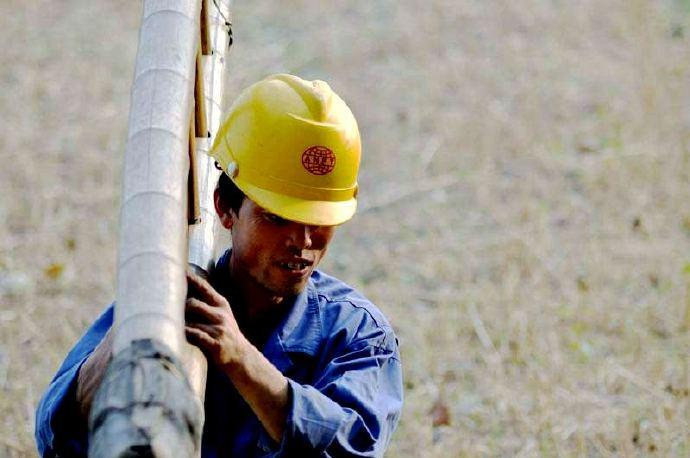helmet: (215, 81, 366, 231)
